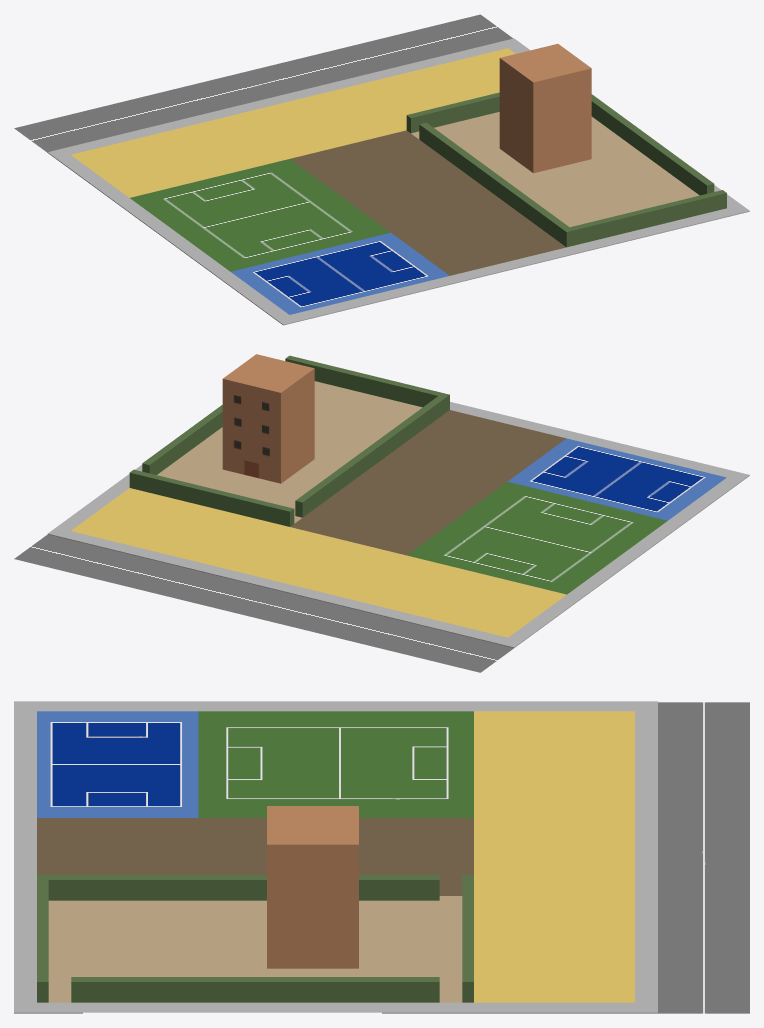
File: paseo.glb
3 views of the same model, one above another, from view 1: azimuth 30°, elevation 25°; view 2: azimuth 150°, elevation 25°; view 3: azimuth 270°, elevation 25° (orthographic). The views are drawn at different scales.
Parts seen in each view (by area): view 1: Ground, Football, Paseo, Road, Sidewalk, Hedges, Flat; view 2: Ground, Paseo, Football, Road, Sidewalk, Hedges, Flat; view 3: Ground, Paseo, Football, Road, Sidewalk, Hedges, Flat.
Part boxes in pixels (bbox=[...]): Ground: bbox=[290, 112, 699, 275]; Football: bbox=[130, 159, 449, 314]; Paseo: bbox=[71, 48, 515, 197]; Road: bbox=[14, 14, 512, 152]; Sidewalk: bbox=[47, 38, 749, 325]; Hedges: bbox=[406, 92, 726, 247]; Flat: bbox=[499, 44, 591, 173]; Ground: bbox=[157, 381, 565, 555]; Paseo: bbox=[71, 488, 566, 637]; Football: bbox=[407, 438, 726, 594]; Road: bbox=[14, 534, 513, 672]; Sidewalk: bbox=[48, 402, 749, 647]; Hedges: bbox=[129, 355, 449, 526]; Flat: bbox=[222, 354, 314, 483]; Ground: bbox=[37, 818, 473, 1002]; Paseo: bbox=[474, 711, 634, 1002]; Football: bbox=[37, 711, 473, 817]; Road: bbox=[658, 702, 749, 1013]; Sidewalk: bbox=[14, 701, 657, 1013]; Hedges: bbox=[37, 875, 473, 1002]; Flat: bbox=[267, 806, 358, 968].
Size of what is drawn, in the model's own units: 64 by 12 by 64.
9 materials, 3 textured.
